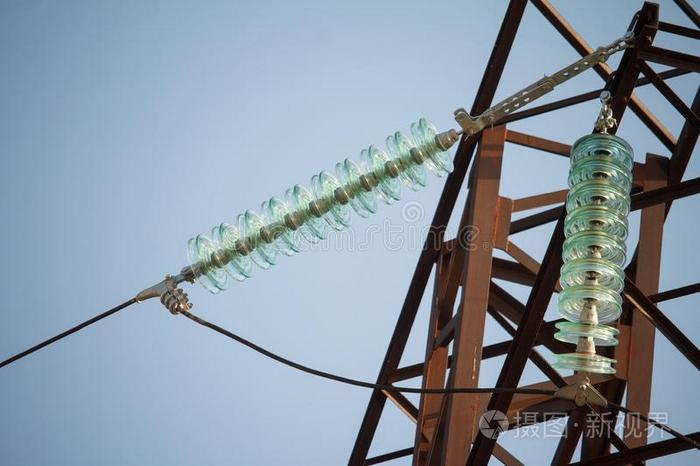insulator: (183, 118, 456, 296), (547, 131, 639, 379)
